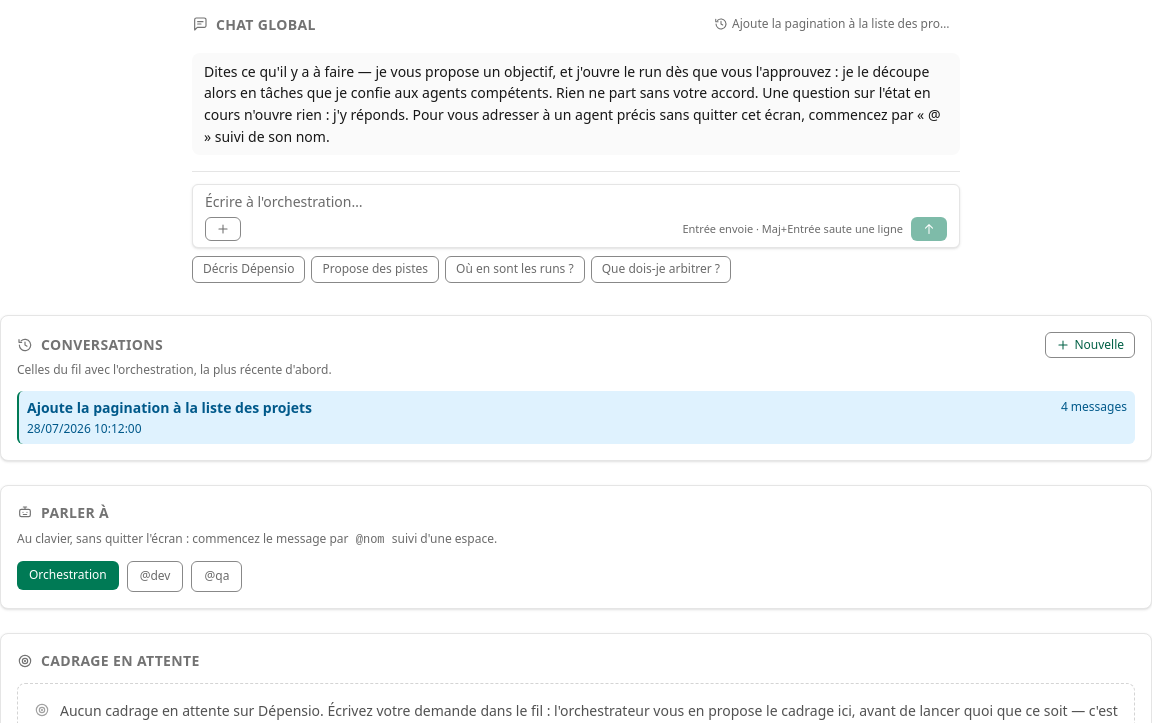
le chat global (#269) › change de destinataire sur une mention, et retire la mention du brouillon
In the text box with placeholder "Écrire à l'orchestration…": (576, 202) 205,191 -> 947,213, type "@dev ajoute la pagination"
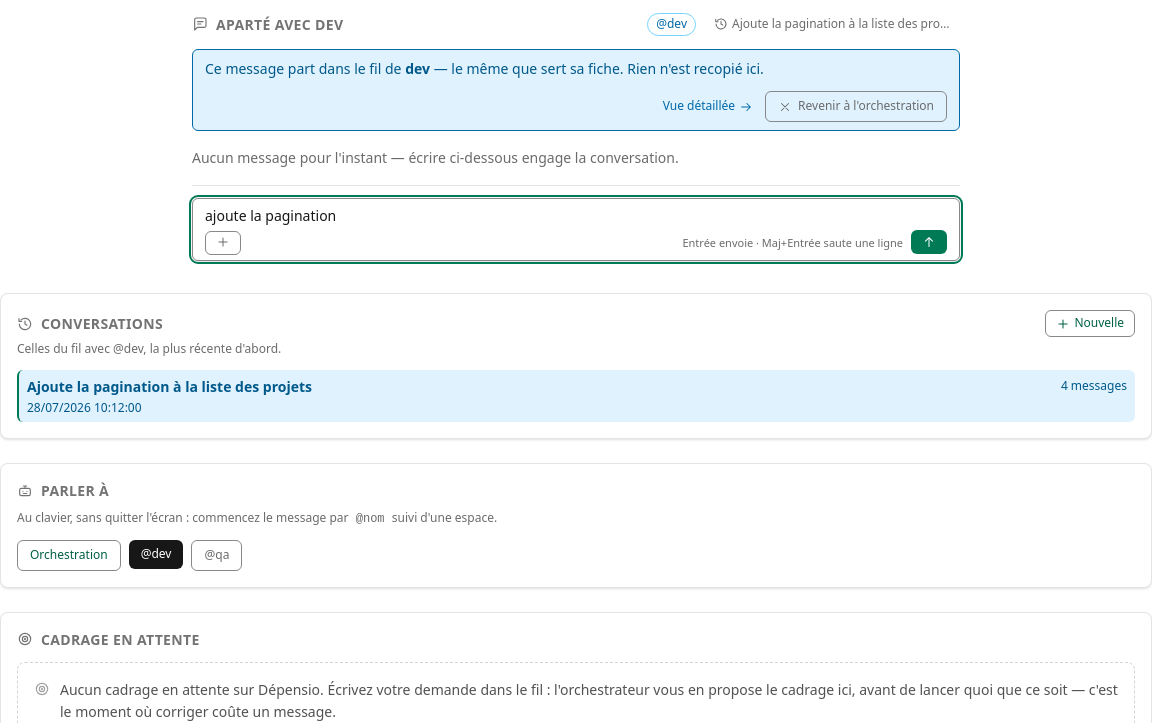
Result: the text "dev" is shown at 405,59 -> 430,78
Result: the text box named "Message à dev" holds "ajoute la pagination" at 205,205 -> 947,226
